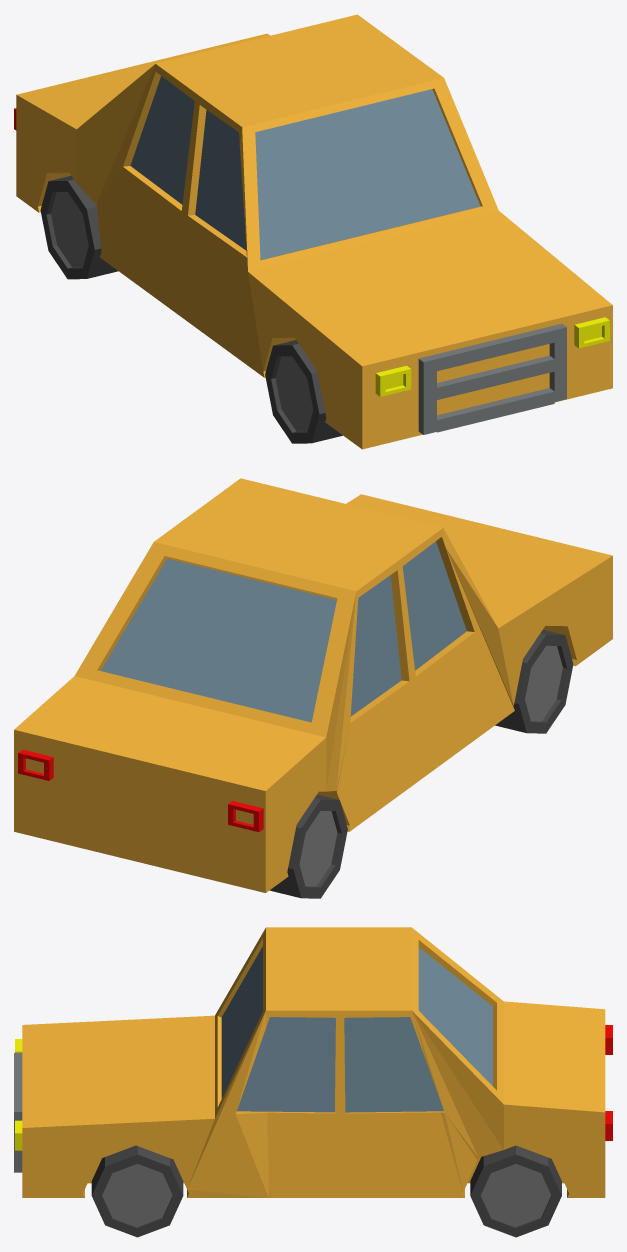
Rendered from Vehicle_Sedan.fbx.
3 renders of one model, top to bottom at view 1: azimuth 30°, elevation 25°; view 2: azimuth 150°, elevation 25°; view 3: azimuth 270°, elevation 25°, orthographic. The views are drawn at different scales.
Parts seen in each view (by area): view 1: Vehicle_Sedan; view 2: Vehicle_Sedan; view 3: Vehicle_Sedan.
Part boxes in pixels (x1=…): Vehicle_Sedan: x1=14, y1=14, x2=612, y2=449; Vehicle_Sedan: x1=14, y1=478, x2=612, y2=898; Vehicle_Sedan: x1=14, y1=927, x2=612, y2=1237.
Size of the model in its own units: 257 by 242 by 612.
